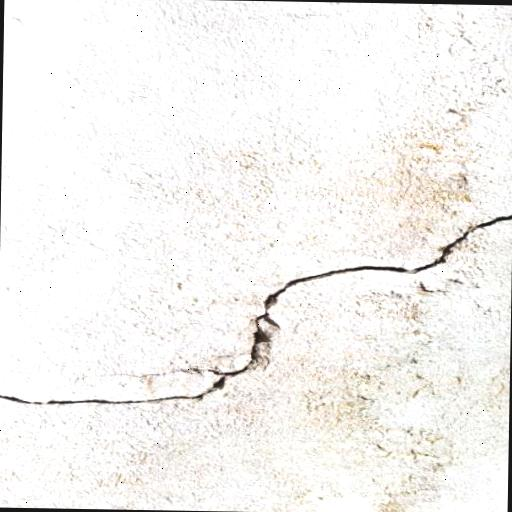spalling: (0, 204, 507, 408)
